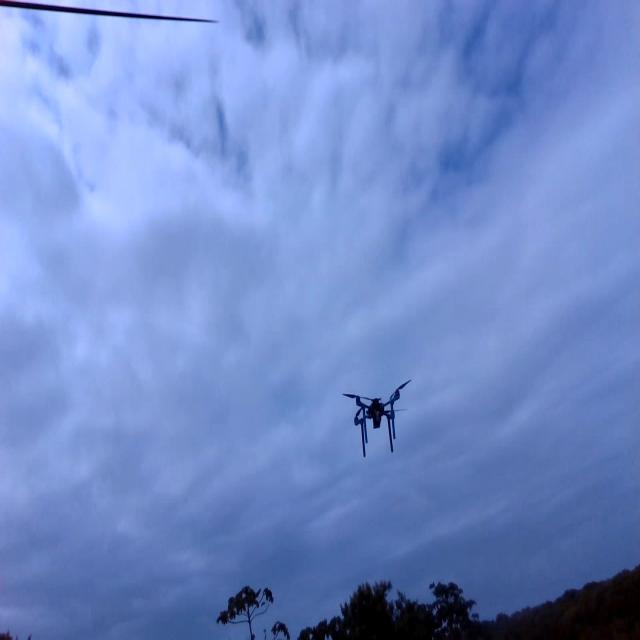-uav-: (335, 371, 417, 460)
